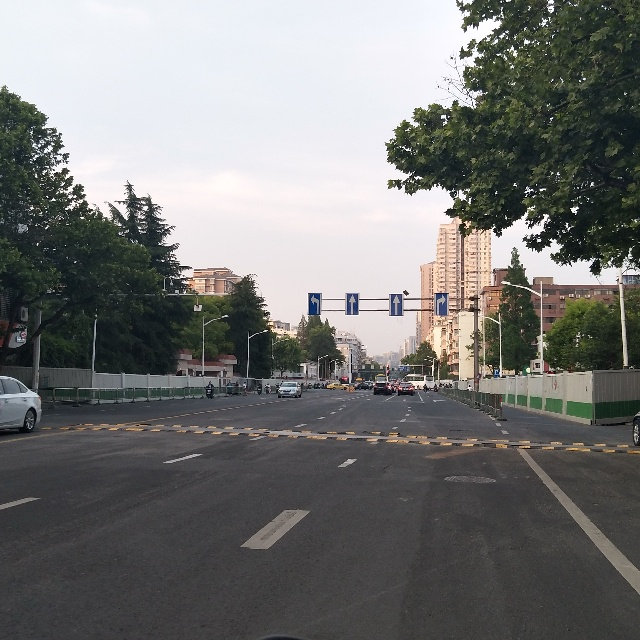left: (305, 291, 325, 317)
right: (431, 291, 450, 319)
straight: (344, 291, 364, 316), (387, 293, 404, 319)
